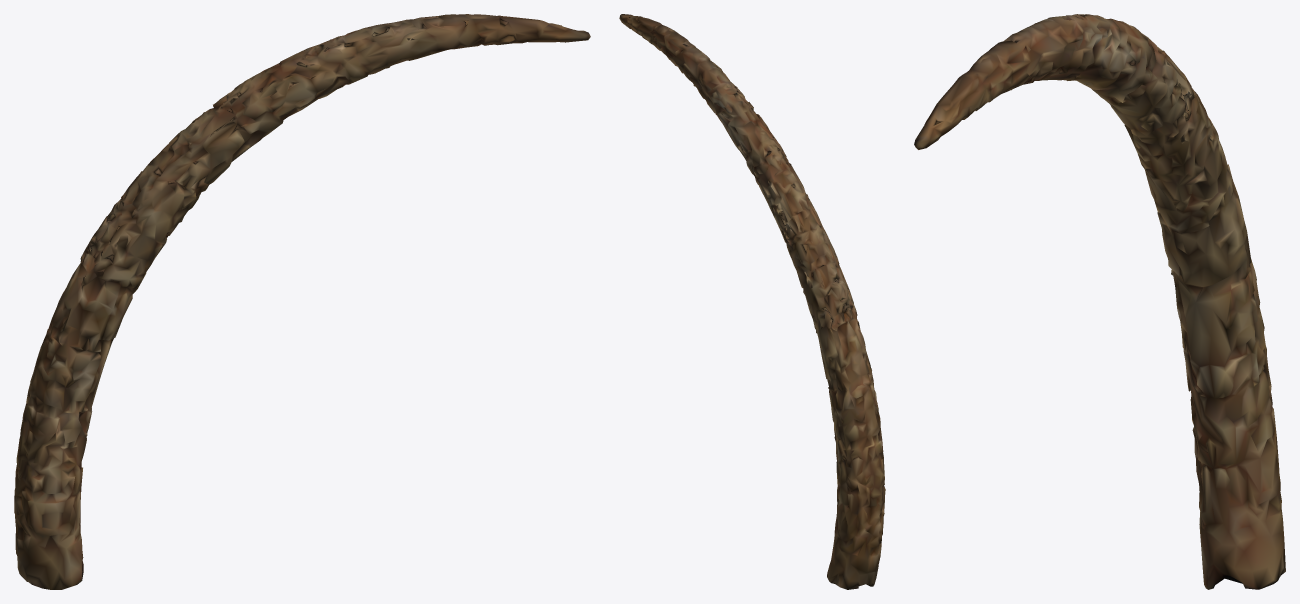
The model's file is curved-tusk.1e77806f.glb.
3 views of the same model, side by side, from view 1: azimuth 30°, elevation 25°; view 2: azimuth 150°, elevation 25°; view 3: azimuth 270°, elevation 25° (orthographic). The views are drawn at different scales.
Visible parts, largest first — view 1: body; view 2: body; view 3: body.
Part boxes in pixels (left/top/right/bottom): body: left=14, top=14, right=590, bottom=589; body: left=619, top=14, right=885, bottom=589; body: left=914, top=14, right=1285, bottom=589.
Size of what is drawn, in the model's own units: 1.88 by 2.2 by 1.
